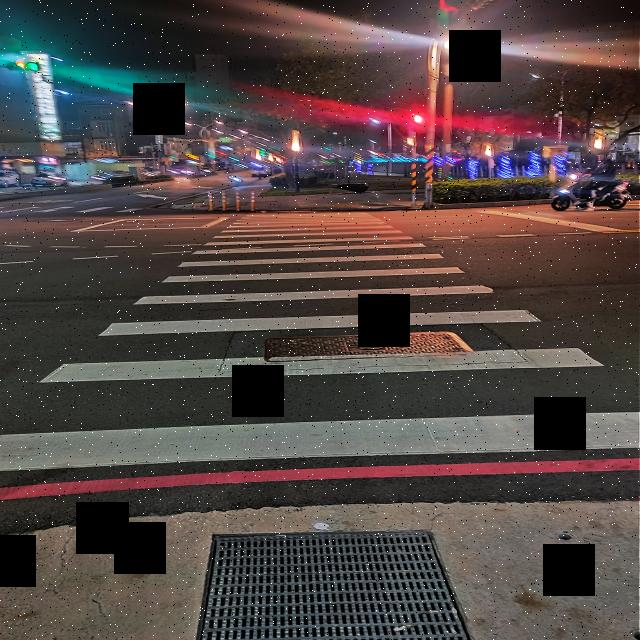zebra crossing: (0, 208, 639, 472), (6, 205, 142, 212)
